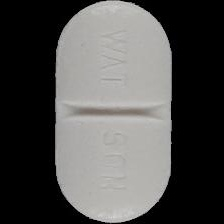21695-328: (0, 0, 224, 224)
